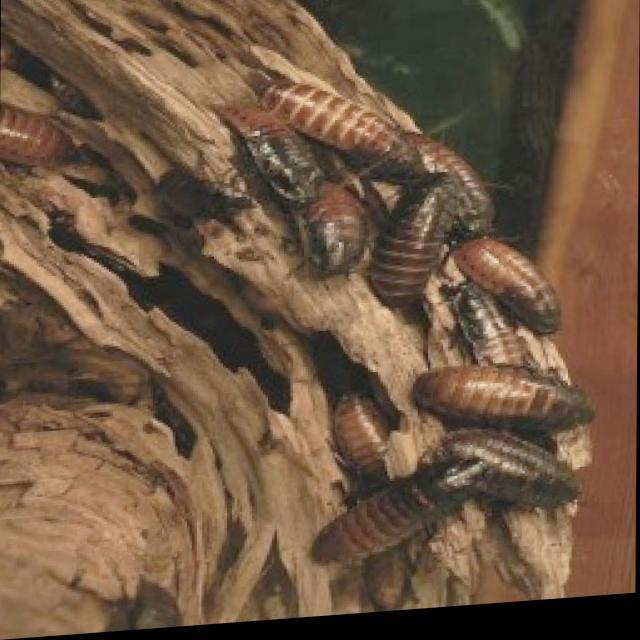cockroach: (267, 57, 452, 198), (303, 453, 486, 580), (424, 427, 591, 538), (405, 356, 609, 442), (456, 226, 578, 352), (216, 87, 316, 217), (376, 157, 454, 317), (307, 157, 372, 316), (2, 124, 122, 199), (338, 372, 402, 500)
